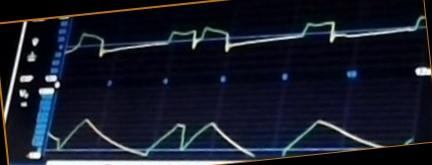Double_Triggering Flow: (71, 18, 425, 67)
Double_Triggering Volume: (52, 102, 384, 159)
